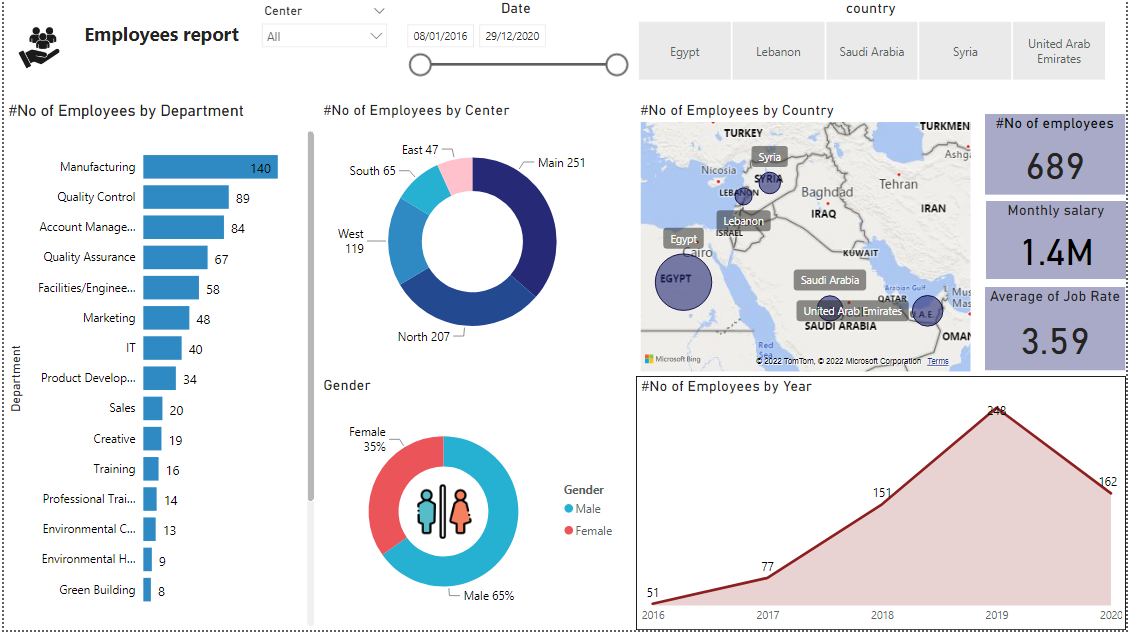

The page's visual inventory and layout, read from the dashboard file:
{"tool":"powerbi","page":{"name":"Employees","canvas":[1280,720],"ordinal":0},"visuals":[{"type":"clusteredBarChart","title":"#No of Employees  by  Department","fields":{"Y":["CountNonNull(EmpTable.No)"],"Category":["EmpTable.Department"]},"box":[0,116.4,359.4,603.6],"z":0},{"type":"donutChart","title":"#No of Employees by Center","fields":{"Category":["EmpTable.Center"],"Y":["CountNonNull(EmpTable.No)"]},"box":[359.4,116.4,350.3,302.4],"z":1000},{"type":"donutChart","title":"Gender","fields":{"Category":["EmpTable.Gender"],"Y":["CountNonNull(EmpTable.Gender)"]},"box":[359.4,430.2,350.3,289.8],"z":2000},{"type":"map","title":"#No of Employees  by Country","fields":{"Category":["EmpTable.Country"],"Size":["Sum(EmpTable.No)"]},"box":[721.1,116.4,386.8,313.8],"z":3000},{"type":"areaChart","title":"#No of Employees  by Year","fields":{"Category":["EmpTable.Start Date.Variation.Date Hierarchy.Year","EmpTable.Start Date.Variation.Date Hierarchy.Quarter","EmpTable.Start Date.Variation.Date Hierarchy.Month","EmpTable.Start Date.Variation.Date Hierarchy.Day"],"Y":["CountNonNull(EmpTable.No)"]},"box":[721.1,430.2,559.1,289.8],"z":4000},{"type":"card","title":"#No of employees","fields":{"Values":["CountNonNull(EmpTable.No)"]},"box":[1119.4,131.2,159.7,92.4],"z":5000},{"type":"card","title":"Monthly salary","fields":{"Values":["Sum(EmpTable.Monthly Salary)"]},"box":[1120.2,230.5,159.7,89],"z":6000},{"type":"card","title":"Average of Job Rate","fields":{"Values":["Avg(EmpTable.Job Rate)"]},"box":[1119.4,328.6,159.7,94.7],"z":7000},{"type":"image","box":[0,19.4,79.9,71.9],"z":8000},{"type":"textbox","box":[83.3,19.4,192.8,71.9],"z":9000},{"type":"slicer","title":"country","fields":{"Values":["EmpTable.Country"]},"box":[698.3,0,581.9,99.3],"z":10000},{"type":"slicer","title":"Date","fields":{"Values":["EmpTable.Start Date"]},"box":[447.3,0,273.9,90.1],"z":11000},{"type":"slicer","fields":{"Values":["EmpTable.Center"]},"box":[284.1,0,163.2,91.3],"z":12000},{"type":"image","box":[465.5,548.8,73,71.9],"z":13000}]}

Visuals, with their boxes in screenshot pixels (x1, y1, x2, y2), scaled from the page's 1280x720 canvas onto the 1132x635 screenshot:
"#No of Employees  by  Department" clusteredBarChart: left=0, top=103, right=318, bottom=634
"#No of Employees by Center" donutChart: left=318, top=103, right=628, bottom=369
"Gender" donutChart: left=318, top=379, right=628, bottom=634
"#No of Employees  by Country" map: left=638, top=103, right=980, bottom=379
"#No of Employees  by Year" areaChart: left=638, top=379, right=1131, bottom=634
"#No of employees" card: left=990, top=116, right=1131, bottom=197
"Monthly salary" card: left=991, top=203, right=1131, bottom=282
"Average of Job Rate" card: left=990, top=290, right=1131, bottom=373
image: left=0, top=17, right=71, bottom=81
textbox: left=74, top=17, right=244, bottom=81
"country" slicer: left=618, top=0, right=1131, bottom=88
"Date" slicer: left=396, top=0, right=638, bottom=79
slicer - EmpTable.Center: left=251, top=0, right=396, bottom=81
image: left=412, top=484, right=476, bottom=547
